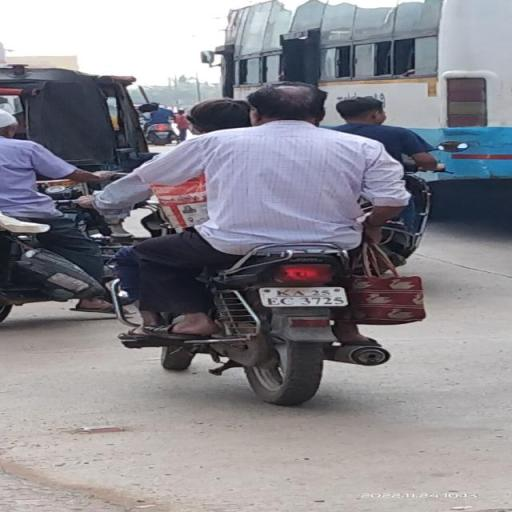bike: (78, 78, 432, 405)
numberplate: (258, 286, 350, 308)
withouthelmet: (250, 85, 324, 122), (194, 100, 248, 128)
